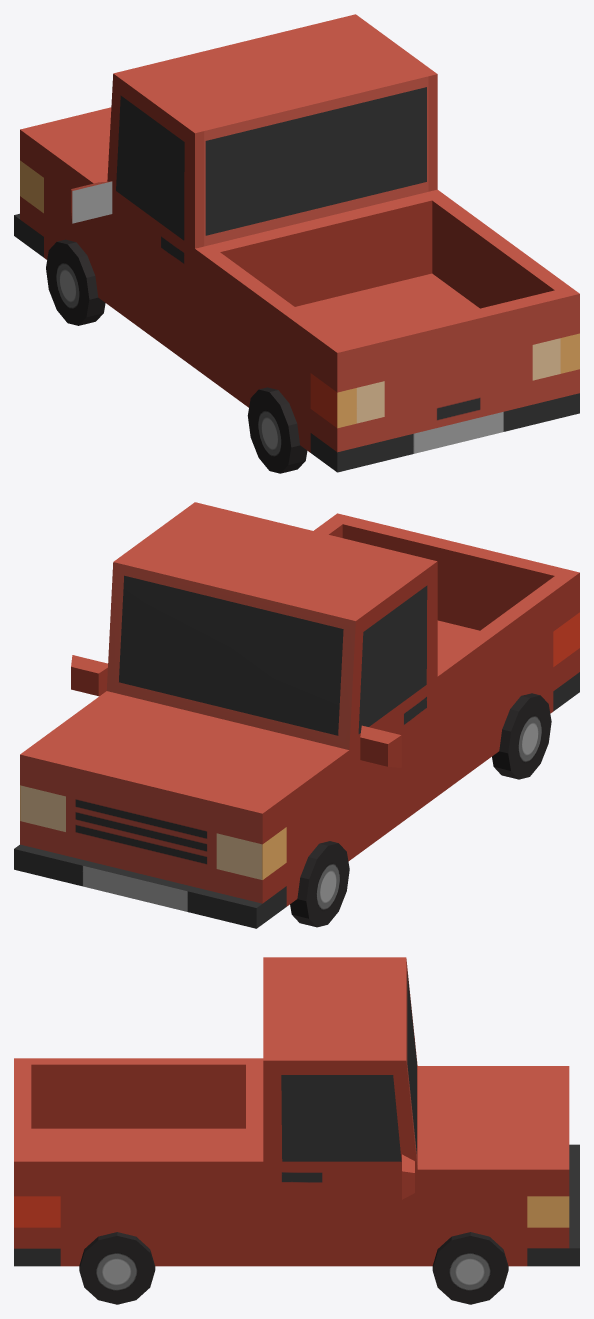
The model's file is ute_empty_mesh.fbx.
3 views of the same model, one above another, from view 1: azimuth 30°, elevation 25°; view 2: azimuth 150°, elevation 25°; view 3: azimuth 270°, elevation 25° (orthographic). The views are drawn at different scales.
Visible parts, largest first — view 1: ute_empty_mesh; view 2: ute_empty_mesh; view 3: ute_empty_mesh.
Part boxes in pixels (left/top/right/bottom): ute_empty_mesh: left=14, top=14, right=579, bottom=473; ute_empty_mesh: left=14, top=502, right=579, bottom=928; ute_empty_mesh: left=14, top=957, right=579, bottom=1304.
Bounding box in the file's own units: 3.16 × 2.52 × 5.38.
